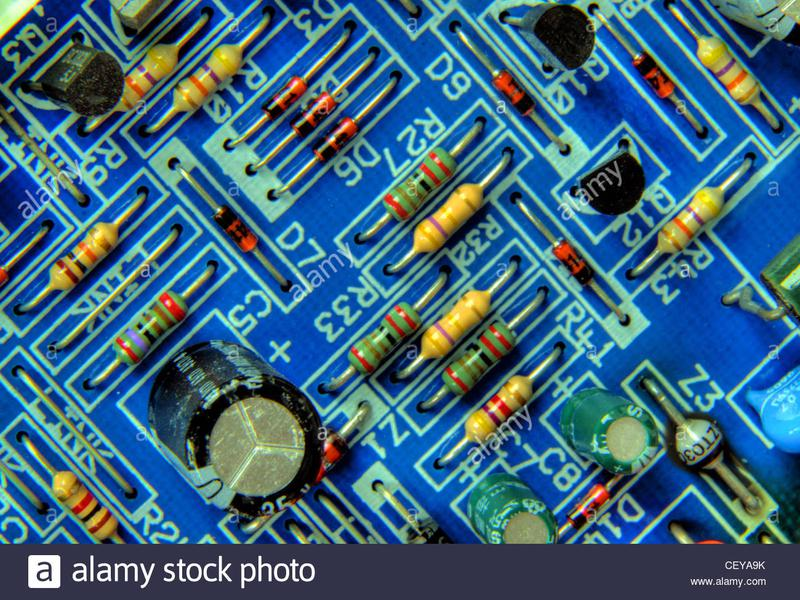resistor: (684, 23, 778, 121), (645, 174, 736, 267), (376, 137, 466, 231), (432, 311, 523, 403), (35, 215, 126, 306), (455, 366, 542, 456), (167, 34, 251, 125), (416, 282, 496, 375), (106, 286, 191, 373), (342, 296, 426, 382), (407, 174, 489, 261), (42, 461, 122, 543), (105, 34, 182, 119)
